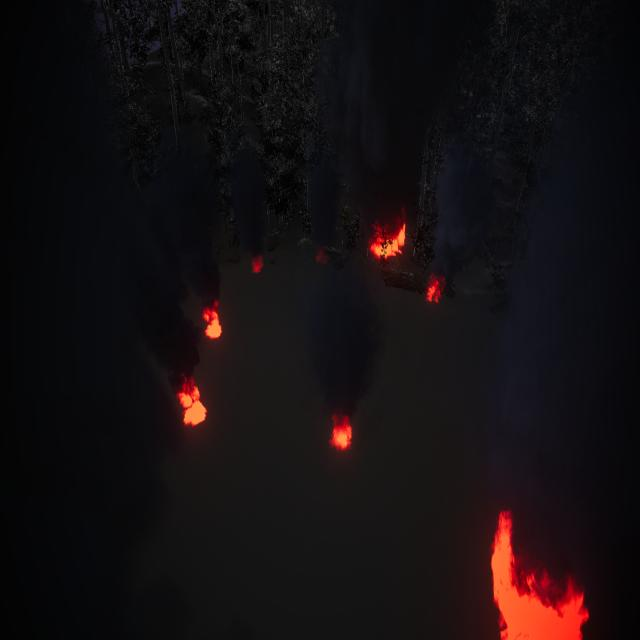Human: (307, 390, 361, 437)
